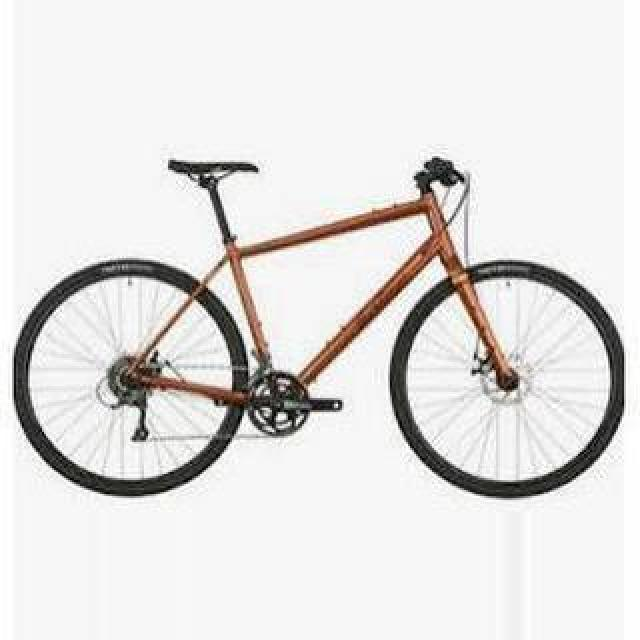Person: (11, 157, 627, 499)
